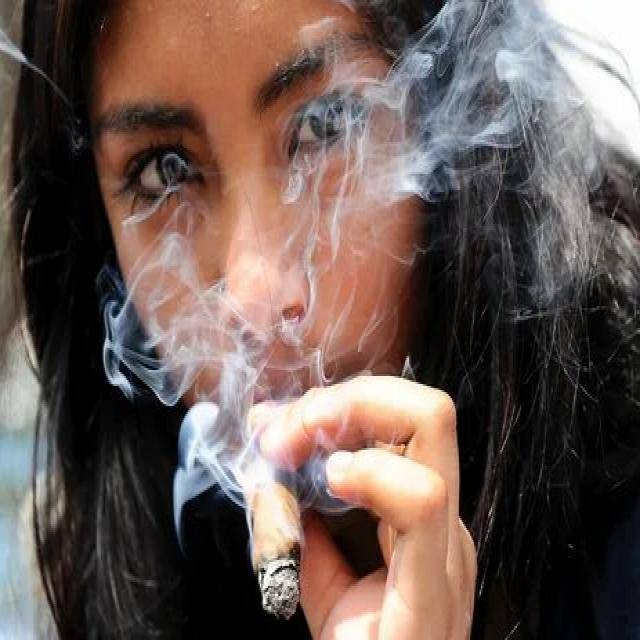smoke: (246, 424, 304, 630)
